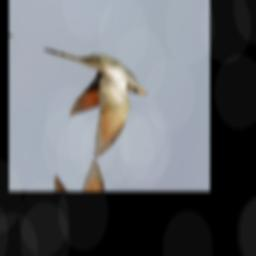Cuckoo: (24, 33, 152, 172)
